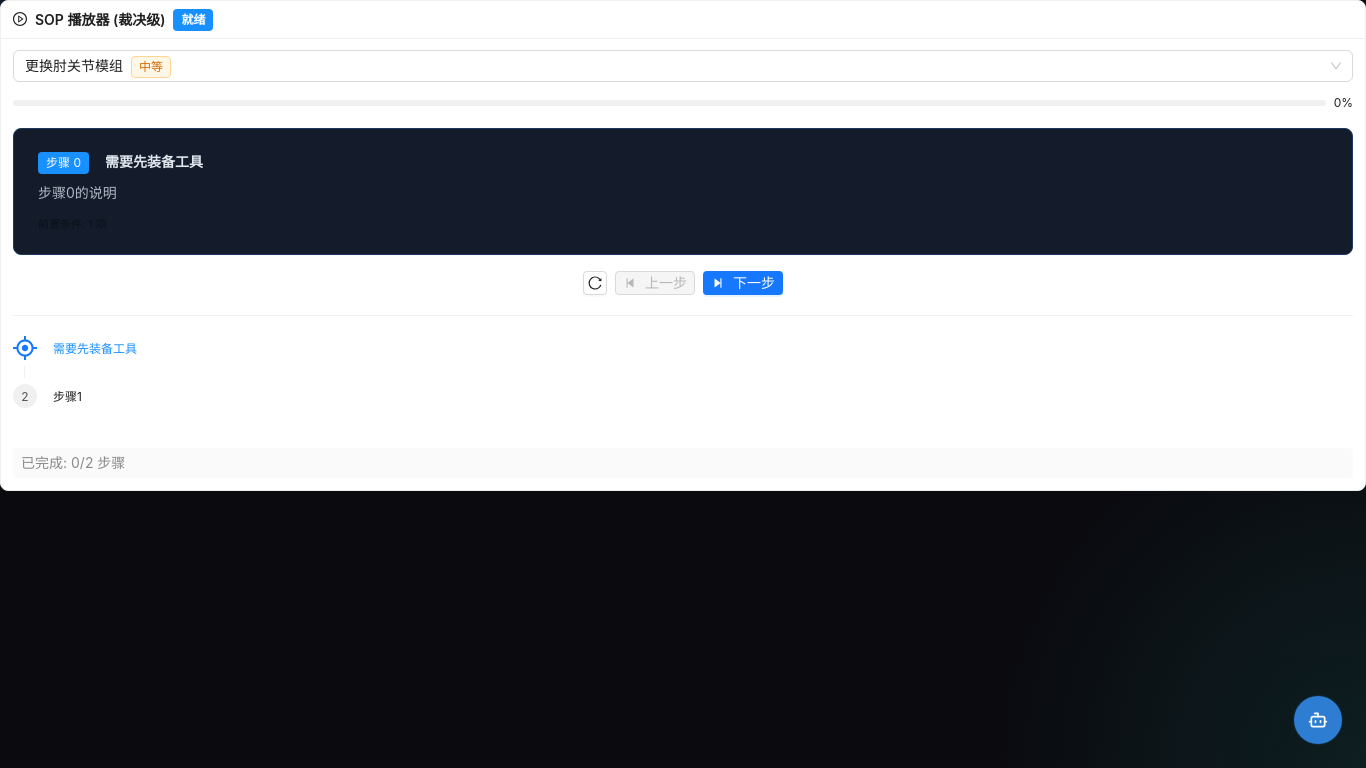
Test: SOPPlayerAdjudicated characterization › blocks the step and shows the alert + 重试 when a precondition fails
# IDLE → click executes the step → precondition fails → BLOCKED
Click the button "下一步" at {"x": 743, "y": 283}, box [703,271,783,295]
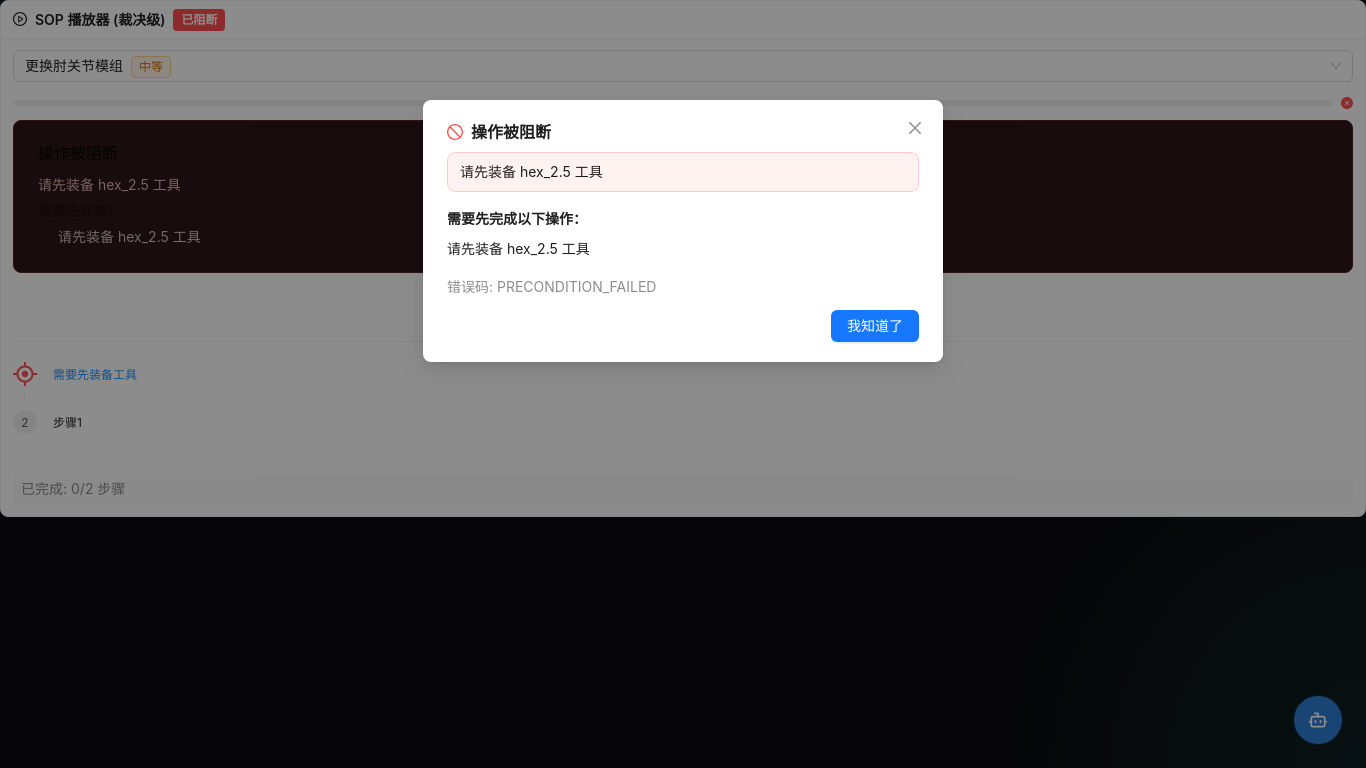
expect the text "已阻断" is shown: met, box [173,9,225,31]
